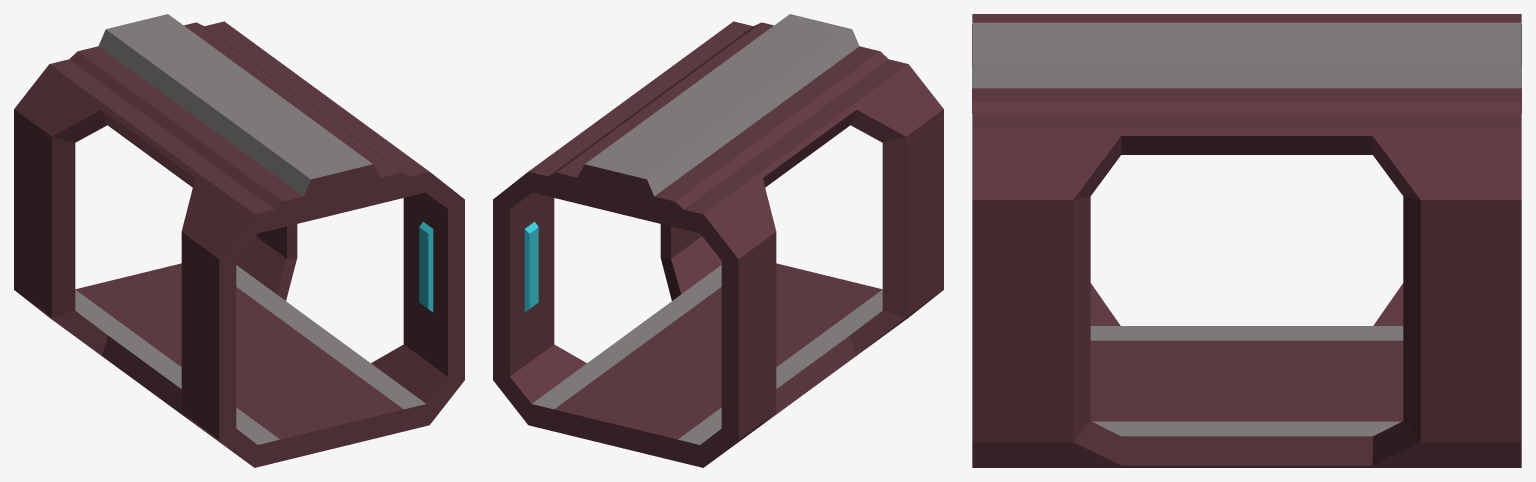
The model's file is scifi-planet-base-hall-two-middle.fbx.
3 views of the same model, side by side, from view 1: azimuth 30°, elevation 25°; view 2: azimuth 150°, elevation 25°; view 3: azimuth 270°, elevation 25° (orthographic). The views are drawn at different scales.
Visible parts, largest first — view 1: scifi-planet-base-hall-two-middle; view 2: scifi-planet-base-hall-two-middle; view 3: scifi-planet-base-hall-two-middle.
Part boxes in pixels (left/top/right/bottom): scifi-planet-base-hall-two-middle: left=14, top=14, right=464, bottom=467; scifi-planet-base-hall-two-middle: left=493, top=14, right=943, bottom=467; scifi-planet-base-hall-two-middle: left=972, top=14, right=1521, bottom=467.
Bounding box in the file's own units: 2.76 × 2.95 × 4.
